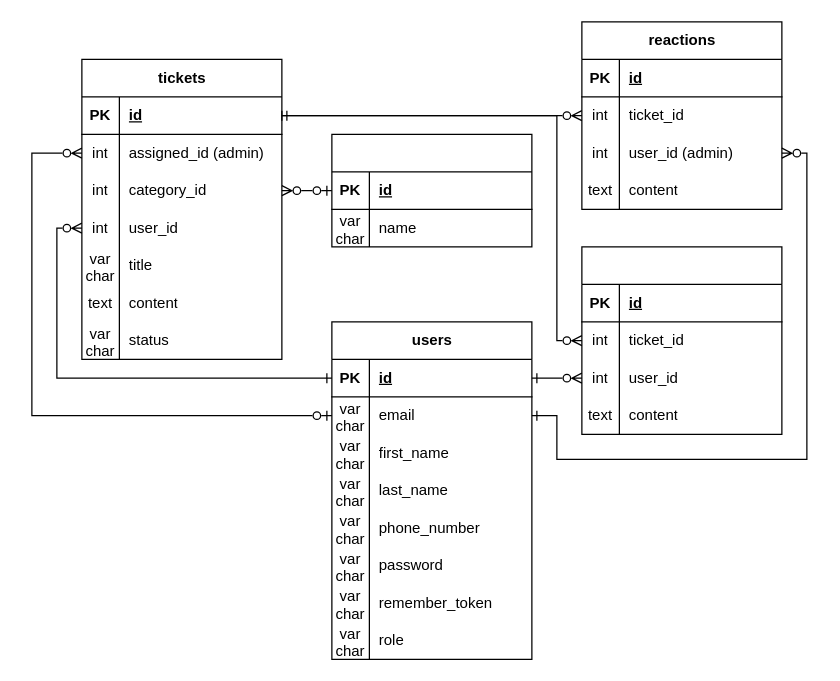
The diagram is 840 pixels wide and 681 high, and some of its shapes have lost their labels. Here are the shapes that lost their labels. From the top down, the box of each, then its label:
(331, 133, 532, 247): categories
(581, 246, 782, 434): notes
